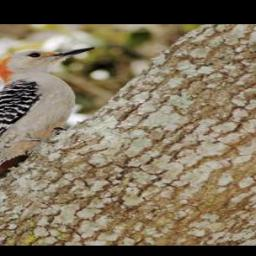Woodpecker: (0, 39, 101, 211)
